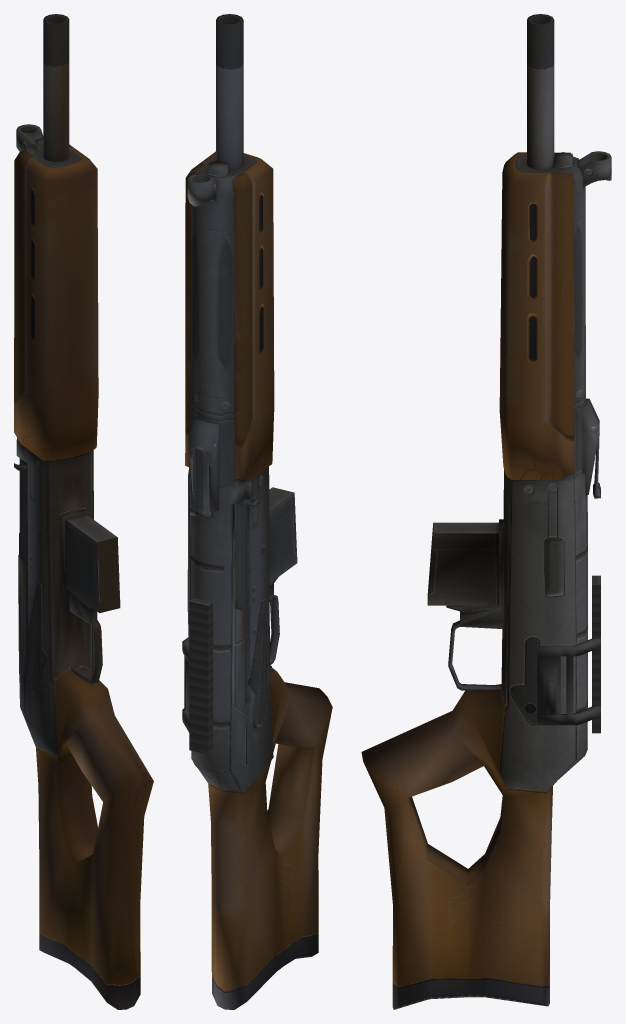
File: TLOG_SemiAutoRifleAbby.fbx
3 renders of one model, left to right at view 1: azimuth 30°, elevation 25°; view 2: azimuth 150°, elevation 25°; view 3: azimuth 270°, elevation 25°, orthographic. The views are drawn at different scales.
Visible parts, largest first — view 1: SemiAutoAbby; view 2: SemiAutoAbby; view 3: SemiAutoAbby.
Boxes of the visible parts, left/top/right/bottom form: SemiAutoAbby: left=14, top=14, right=153, bottom=1009; SemiAutoAbby: left=182, top=14, right=332, bottom=1009; SemiAutoAbby: left=361, top=14, right=611, bottom=1009.
Size of the model in its own units: 0.0431 by 0.6126 by 0.1406.
